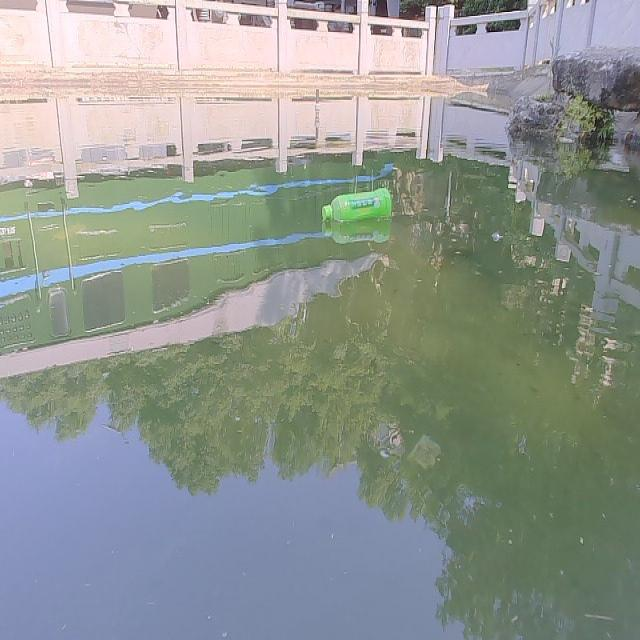bottle: (318, 185, 396, 223)
